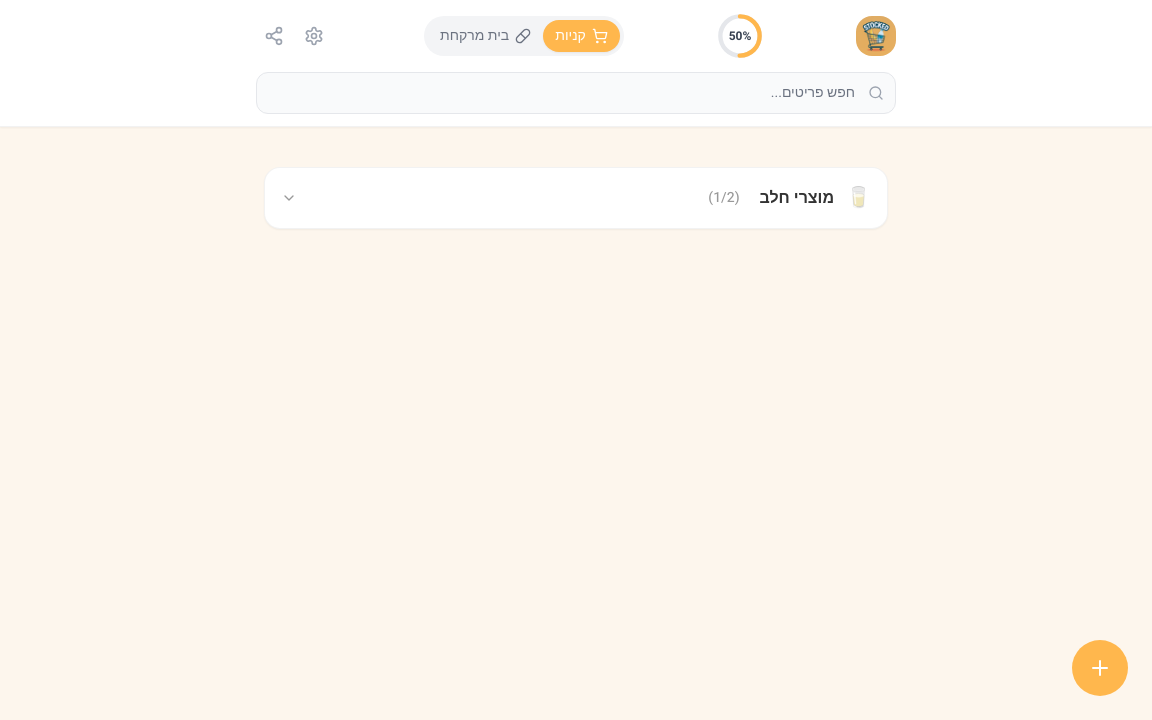
HomeScreen - Detailed Tests › Search Functionality › clears search when unchecking a purchased item in search results
Search for the purchased item (גבינה)
Type "גבינה" into the field with placeholder "חפש פריטים...".
click(576, 93); type("גבינה")  # box [256,72,896,114]
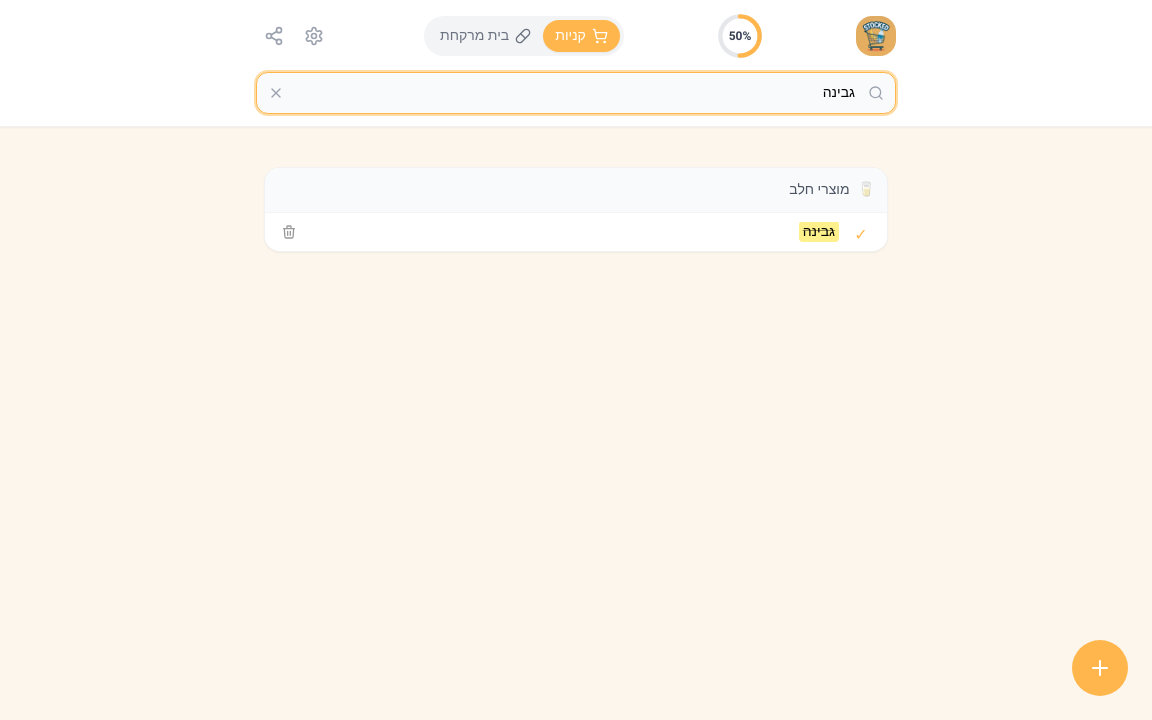
Now the text "גבינה" is shown, box [799,222,839,242]
Now the button "✓" is shown
Click the button "✓".
click(861, 233)  # box [851,223,871,243]
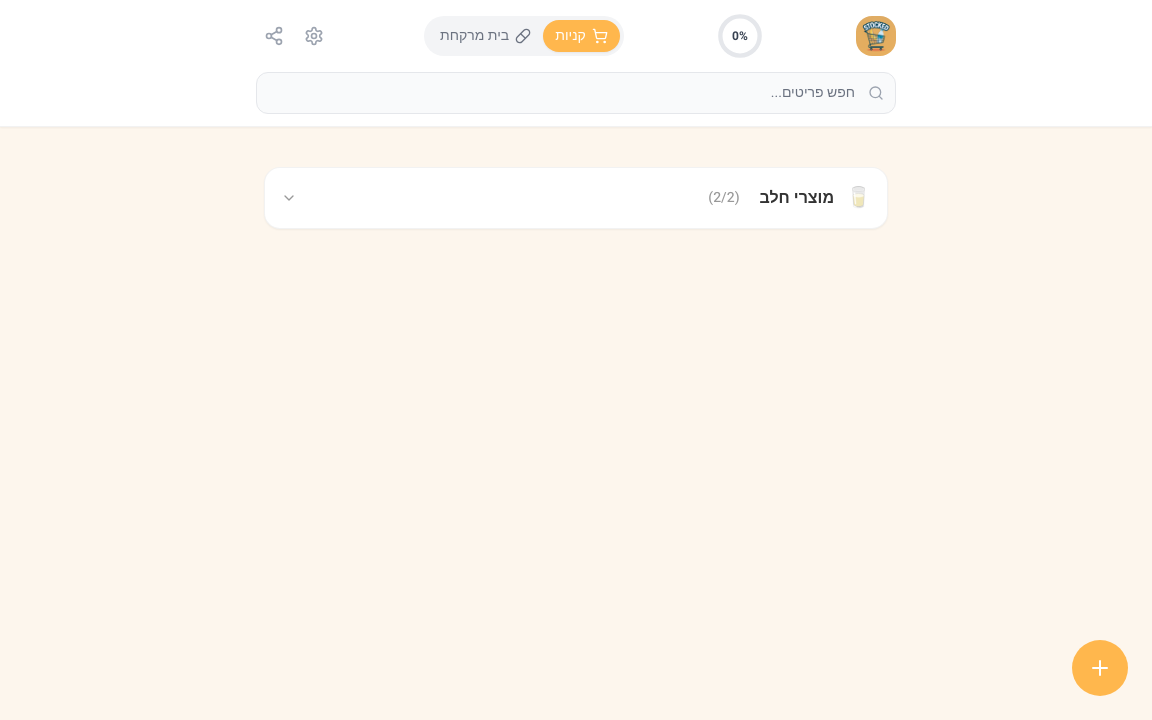
Now the field with placeholder "חפש פריטים..." is empty, box [256,72,896,114]
